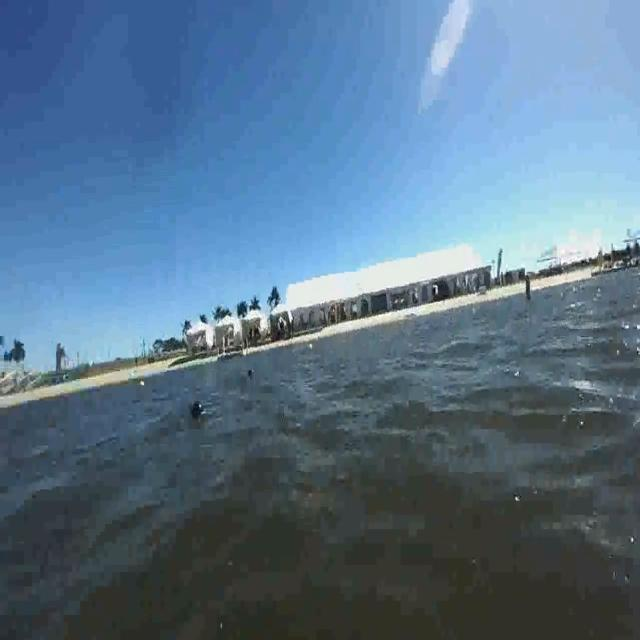black-buoy: (190, 396, 203, 415)
yellow-buoy: (138, 376, 145, 386)
